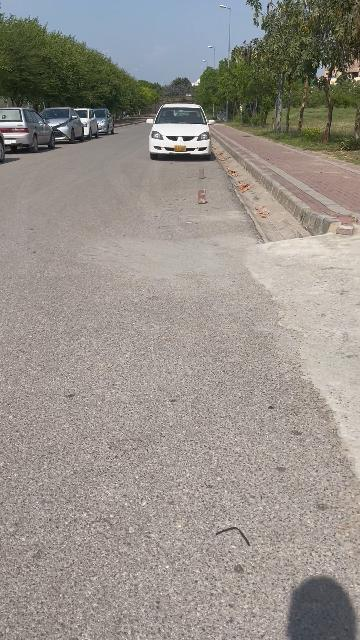plate: (174, 146, 185, 152)
